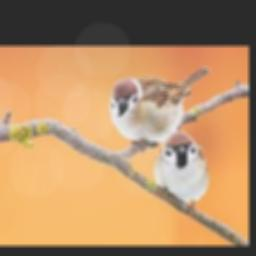Sparrow: (111, 67, 210, 153), (153, 130, 209, 219)
